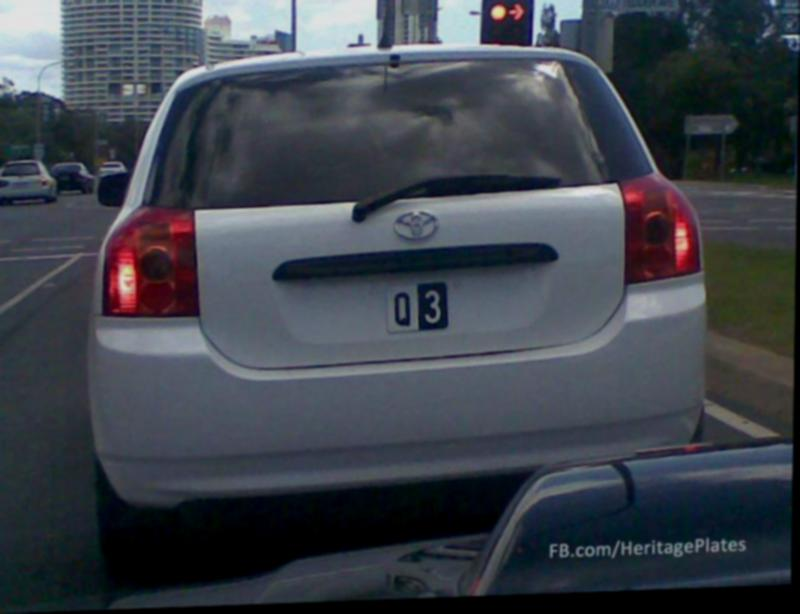License_Plate: (379, 277, 462, 337)
